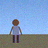person: (9, 19, 22, 42)
